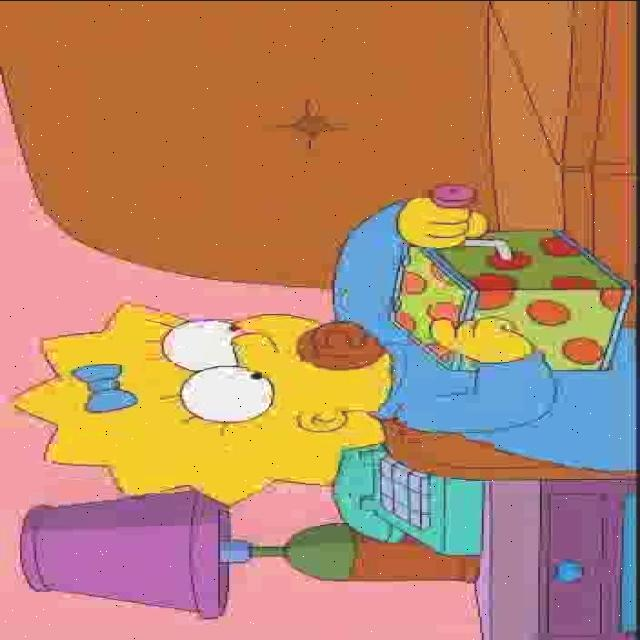Maggie Simpson: (9, 300, 406, 508)
